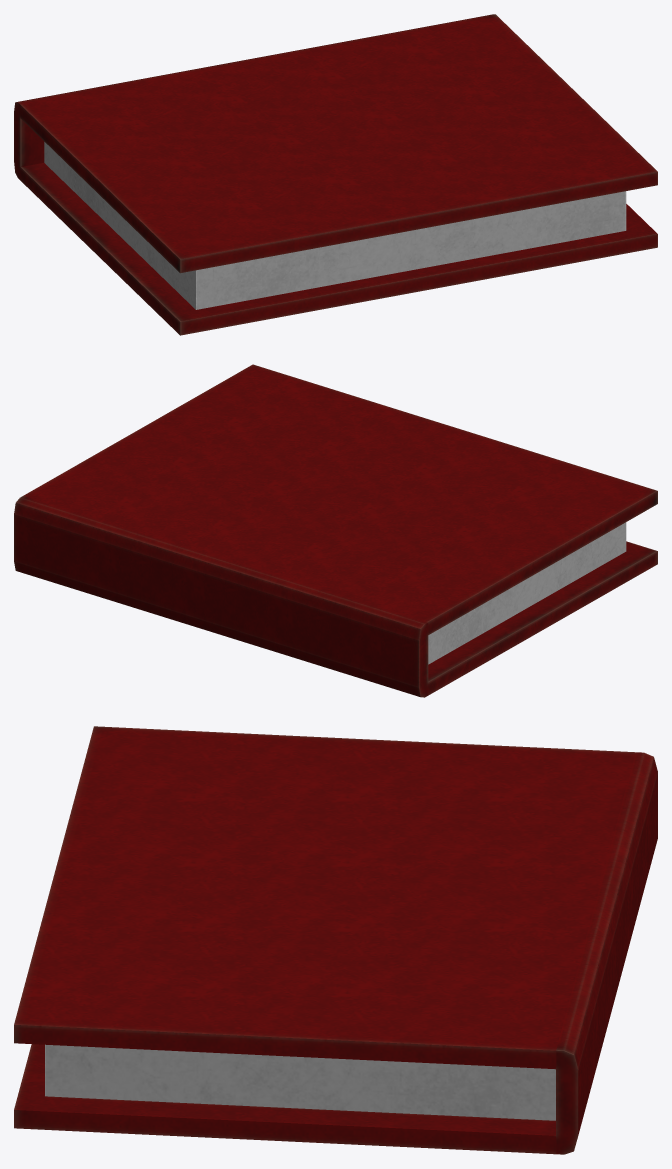
Rendered from Book.fbx.
3 renders of one model, top to bottom at view 1: azimuth 30°, elevation 25°; view 2: azimuth 150°, elevation 25°; view 3: azimuth 270°, elevation 25°, orthographic. The views are drawn at different scales.
Parts seen in each view (by area): view 1: Book, Cube.024; view 2: Book, Cube.024; view 3: Book, Cube.024.
Boxes of the visible parts, x1,y1,x2,y2 form: Book: (14, 14, 657, 335); Cube.024: (44, 142, 626, 309); Book: (14, 364, 657, 697); Cube.024: (428, 522, 626, 664); Book: (14, 726, 657, 1154); Cube.024: (45, 1044, 555, 1120).
Size of the model in its own units: 27.99 by 4.15 by 23.41.
Materials: 1 (1 with a texture image).
